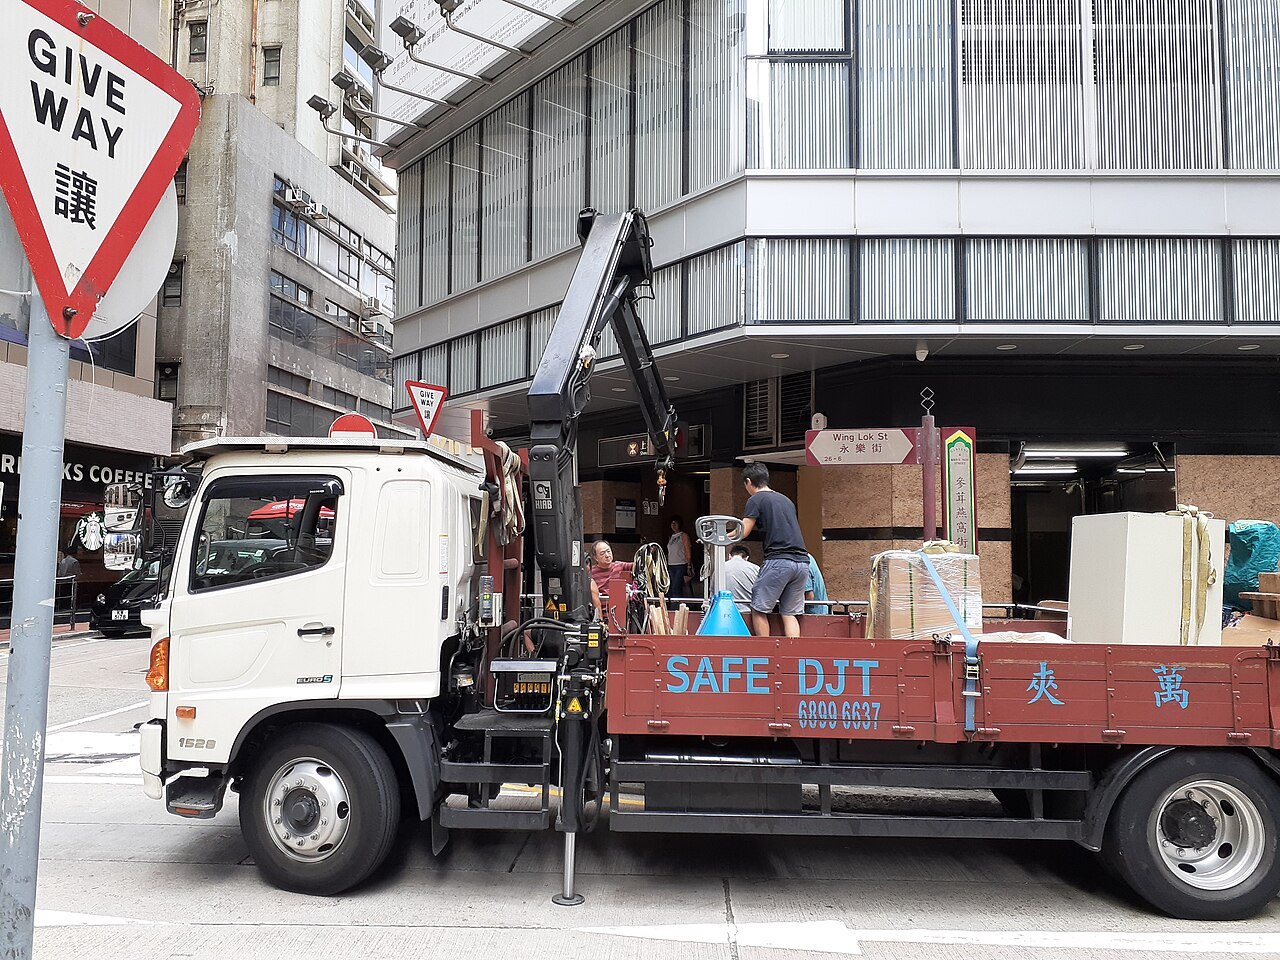Give Way: (0, 0, 202, 350), (402, 378, 449, 440)
